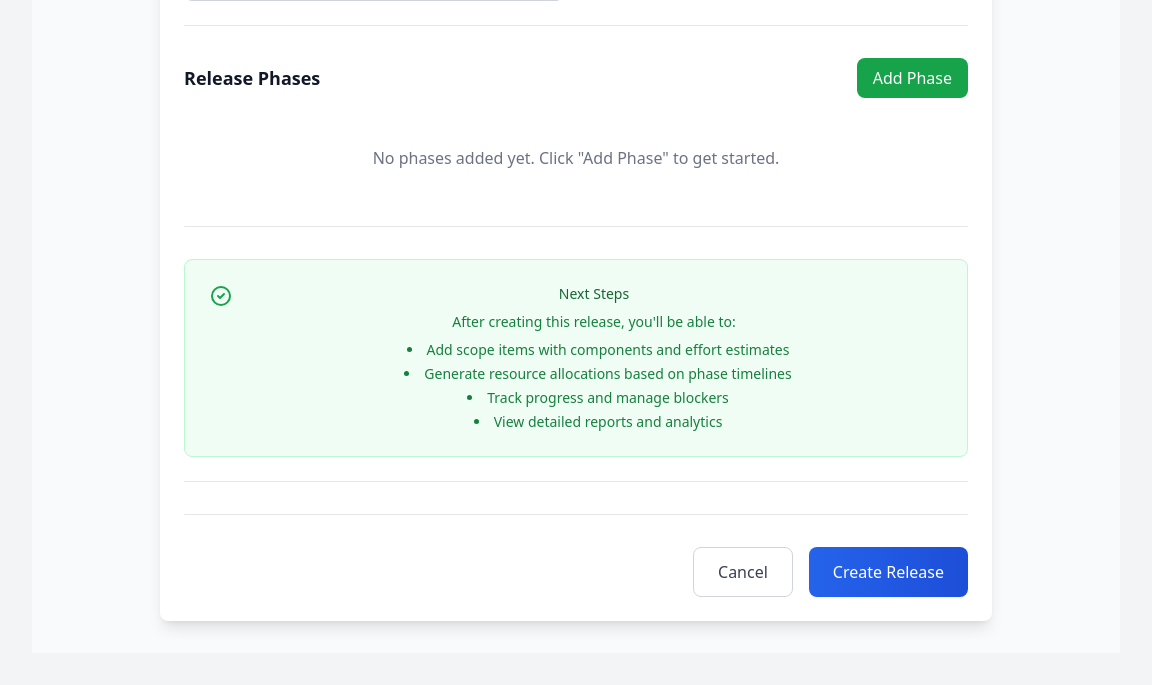
Test case: ReleaseForm › Form Validation › should show error when name is empty
The width and height of the screenshot is (1152, 685).
(page scrolled)
Click the button "Create Release".
click(888, 572)  # box [809,547,968,597]
(page scrolled)
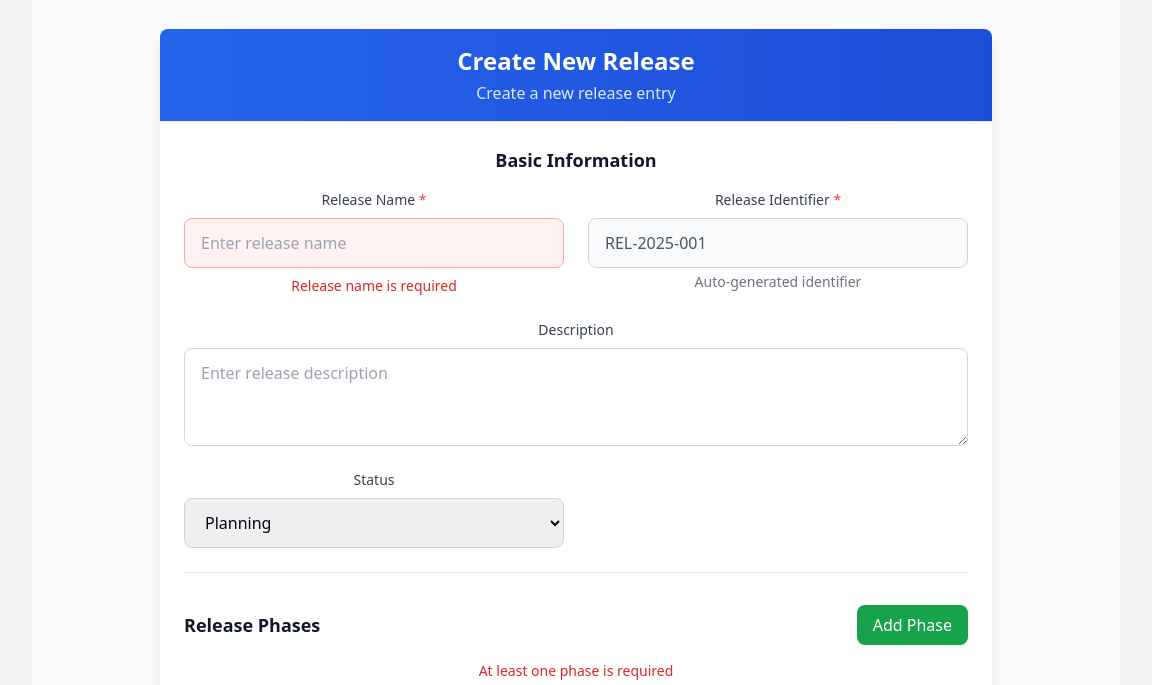
Check: the text "Release name is required" is shown, box [291,276,457,295]
